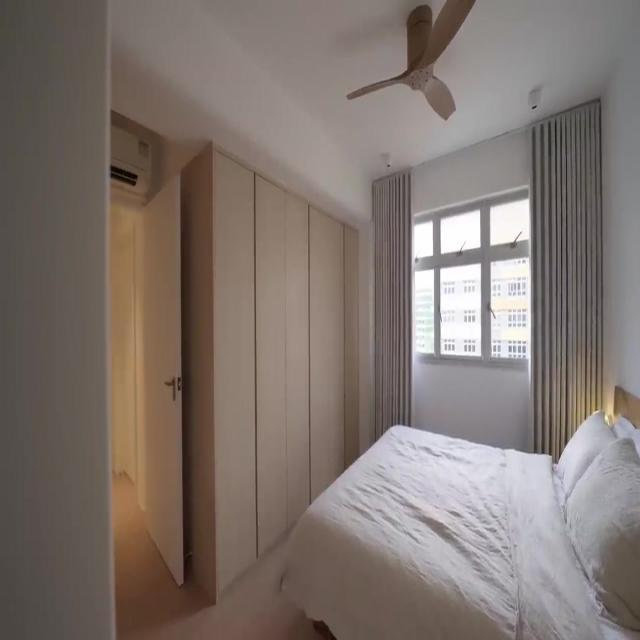door: (142, 173, 184, 586)
obstacle: (280, 385, 640, 639)
